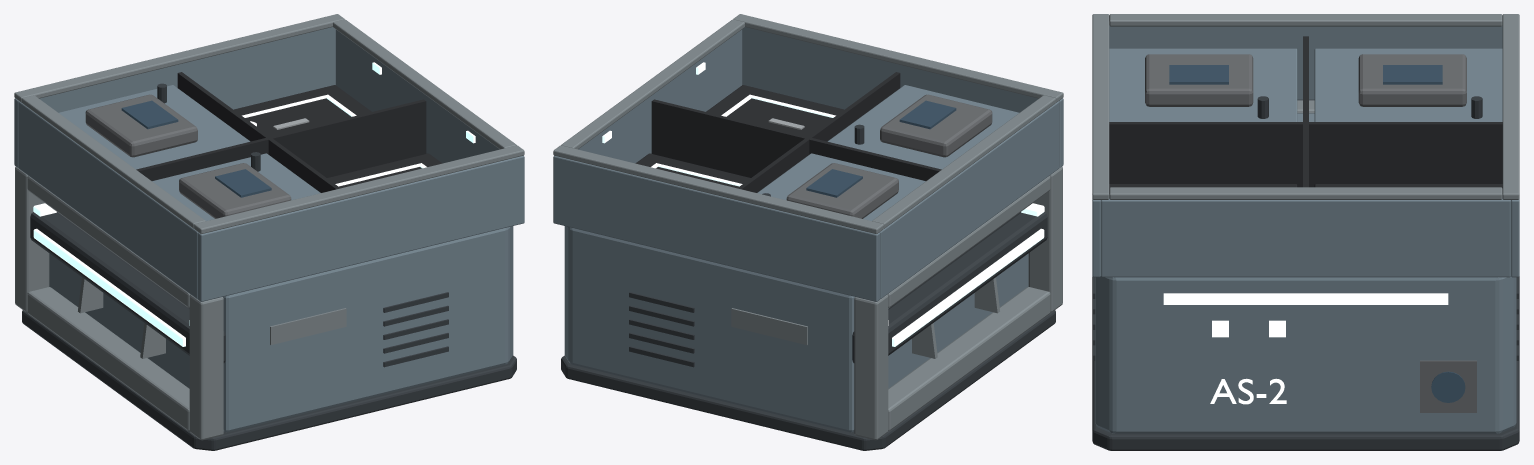
Rendered from robot-2762-spec2027.glb.
The picture shows the model from 3 angles, left to right: view 1: azimuth 30°, elevation 25°; view 2: azimuth 150°, elevation 25°; view 3: azimuth 270°, elevation 25°; orthographic projection. The views are drawn at different scales.
Visible parts, largest first — view 1: Hangar_TeamPrimaryShell, Hangar_RobotMatteAluminum, Hangar_CarbonPlate, Hangar_RobotMatteGraphite, Hangar_RefereeModuleGray, LightBar_RobotMatteGraphite, LightBar_TeamGlow, Hangar_CameraLens, LightBar_RobotMatteAluminum, Hangar_TeamGlow; view 2: Hangar_TeamPrimaryShell, Hangar_RobotMatteAluminum, Hangar_CarbonPlate, Hangar_RobotMatteGraphite, Hangar_RefereeModuleGray, LightBar_RobotMatteGraphite, LightBar_TeamGlow, Hangar_CameraLens, LightBar_RobotMatteAluminum, Hangar_TeamGlow; view 3: Hangar_TeamPrimaryShell, Hangar_CarbonPlate, Hangar_RobotMatteAluminum, Hangar_RefereeModuleGray, Hangar_RobotMatteGraphite, Hangar_TeamGlow, Hangar_CameraLens, Hangar_StatusWhite.
Boxes of the visible parts, bbox=[...] form: Hangar_TeamPrimaryShell: bbox=[14, 27, 524, 432]; Hangar_RobotMatteAluminum: bbox=[14, 14, 524, 440]; Hangar_CarbonPlate: bbox=[136, 72, 442, 192]; Hangar_RobotMatteGraphite: bbox=[22, 83, 516, 450]; Hangar_RefereeModuleGray: bbox=[85, 94, 291, 218]; LightBar_RobotMatteGraphite: bbox=[30, 212, 225, 362]; LightBar_TeamGlow: bbox=[33, 203, 189, 346]; Hangar_CameraLens: bbox=[121, 100, 271, 197]; LightBar_RobotMatteAluminum: bbox=[78, 277, 165, 358]; Hangar_TeamGlow: bbox=[242, 62, 475, 186]; Hangar_TeamPrimaryShell: bbox=[553, 27, 1063, 432]; Hangar_RobotMatteAluminum: bbox=[553, 14, 1063, 440]; Hangar_CarbonPlate: bbox=[635, 72, 941, 192]; Hangar_RobotMatteGraphite: bbox=[561, 124, 1055, 450]; Hangar_RefereeModuleGray: bbox=[786, 94, 992, 218]; LightBar_RobotMatteGraphite: bbox=[852, 212, 1047, 362]; LightBar_TeamGlow: bbox=[888, 203, 1044, 346]; Hangar_CameraLens: bbox=[806, 100, 956, 197]; LightBar_RobotMatteAluminum: bbox=[912, 277, 999, 358]; Hangar_TeamGlow: bbox=[602, 62, 835, 186]; Hangar_TeamPrimaryShell: bbox=[1092, 25, 1519, 433]; Hangar_CarbonPlate: bbox=[1109, 36, 1502, 188]; Hangar_RobotMatteAluminum: bbox=[1092, 14, 1519, 199]; Hangar_RefereeModuleGray: bbox=[1145, 54, 1476, 412]; Hangar_RobotMatteGraphite: bbox=[1092, 96, 1519, 450]; Hangar_TeamGlow: bbox=[1163, 293, 1448, 304]; Hangar_CameraLens: bbox=[1169, 65, 1465, 402]; Hangar_StatusWhite: bbox=[1210, 320, 1286, 404].
Size of the model in its own units: 0.3 by 0.2 by 0.3.
